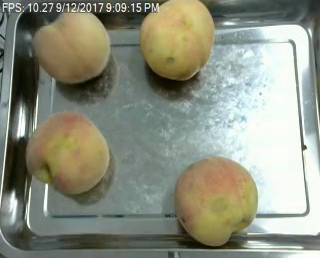Peach: (175, 155, 258, 246), (26, 110, 110, 195), (33, 8, 111, 85), (140, 0, 215, 80)
